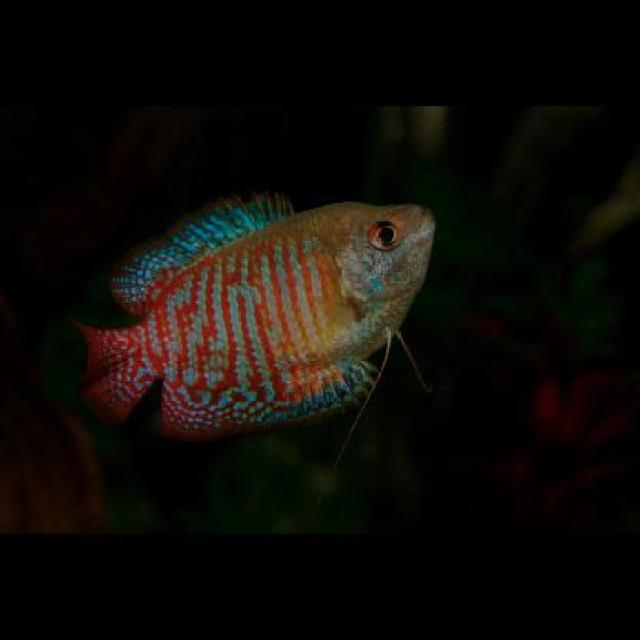Gourami: (72, 187, 438, 435)
